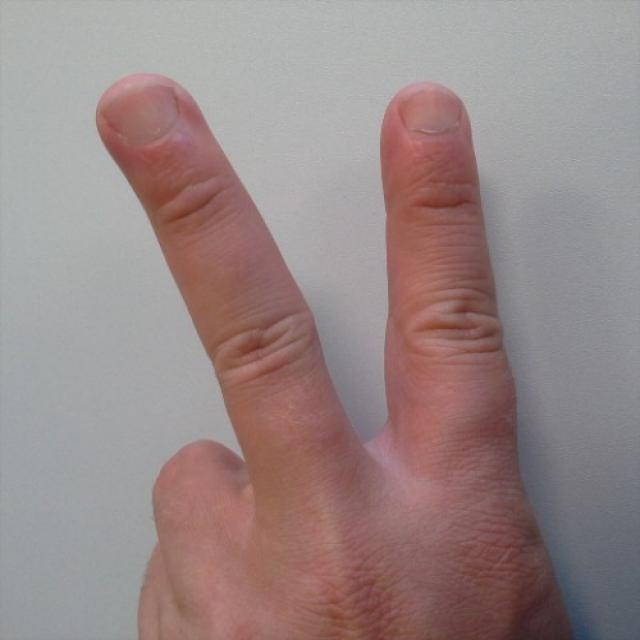scissors: (91, 73, 568, 638)
